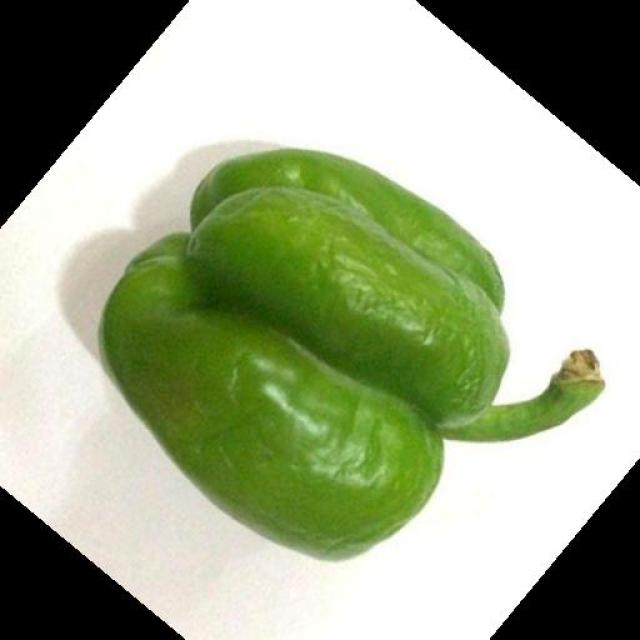Fresh_Capsicum: (122, 141, 606, 577)
